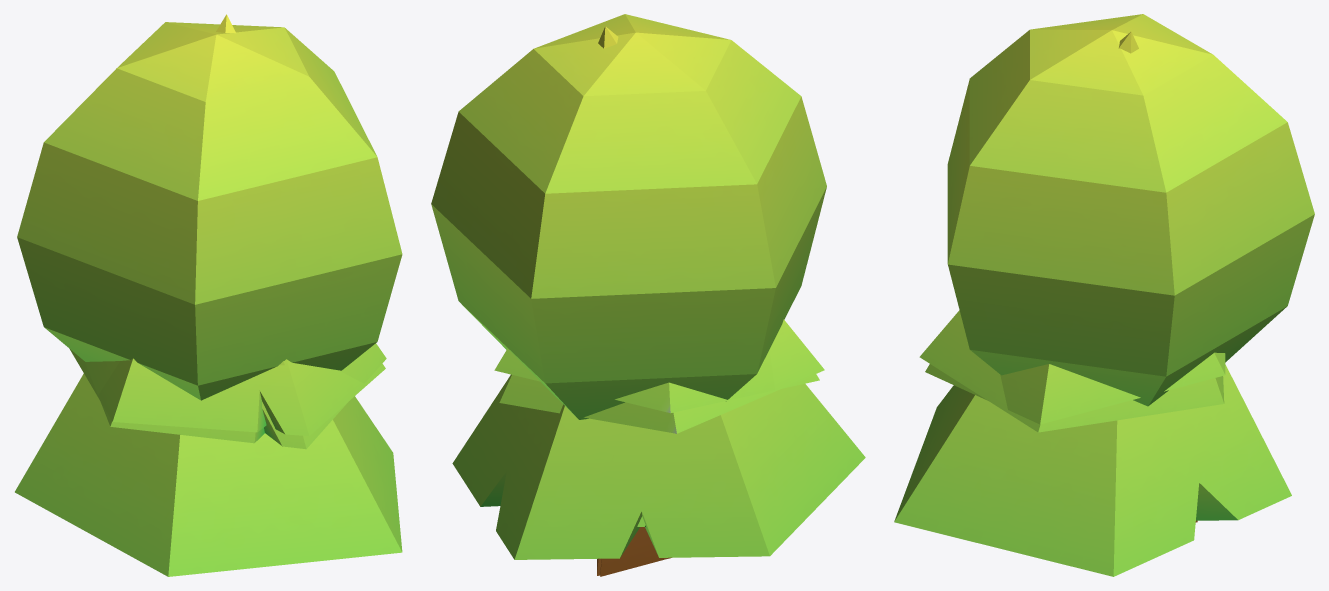
The model's file is Trees.fbx.
The picture shows the model from 3 angles, left to right: view 1: azimuth 30°, elevation 25°; view 2: azimuth 150°, elevation 25°; view 3: azimuth 270°, elevation 25°; orthographic projection. The views are drawn at different scales.
Visible parts, largest first — view 1: Tree4, Tree1, Tree5, Tree2; view 2: Tree4, Tree1, Tree5, Tree2, Tree3; view 3: Tree4, Tree1, Tree5, Tree2.
Part boxes in pixels (x1,y1,x2,y2): Tree4: [17, 142, 402, 400]; Tree1: [15, 14, 402, 576]; Tree5: [44, 22, 377, 200]; Tree2: [70, 349, 385, 436]; Tree4: [431, 96, 826, 419]; Tree1: [452, 26, 865, 559]; Tree5: [459, 14, 801, 575]; Tree2: [499, 319, 824, 526]; Tree3: [600, 525, 663, 576]; Tree4: [947, 80, 1314, 406]; Tree1: [894, 31, 1291, 576]; Tree5: [969, 14, 1287, 522]; Tree2: [919, 310, 1224, 432].
Bounding box in the file's own units: 75.94 × 71.7 × 100.
